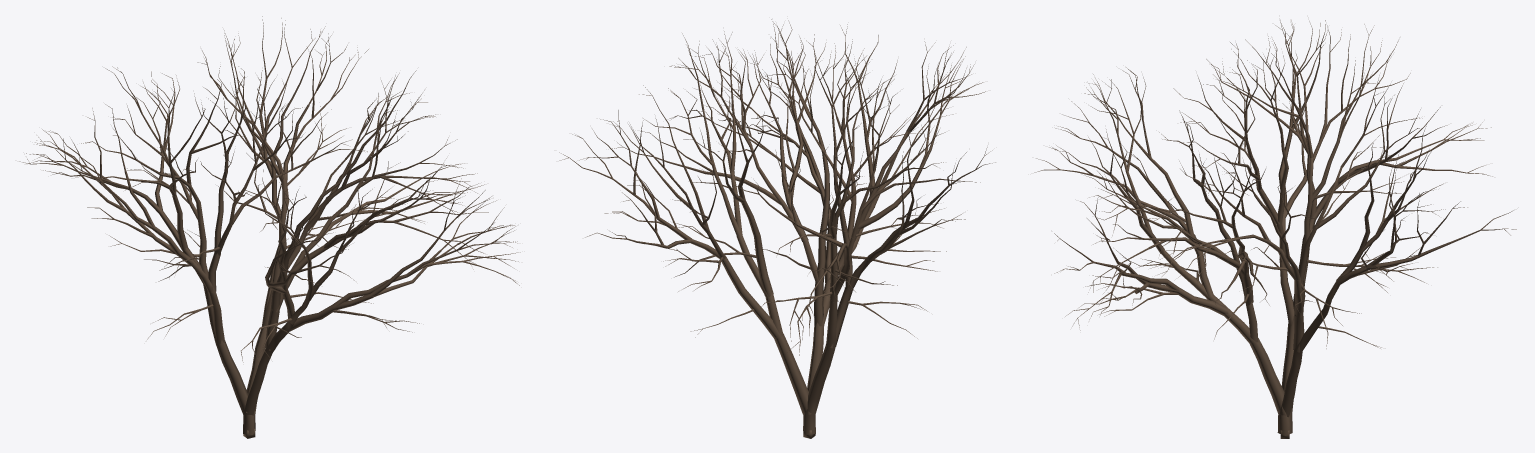
The model's file is World_Tree_Placeholder.fbx.
The picture shows the model from 3 angles, left to right: view 1: azimuth 30°, elevation 25°; view 2: azimuth 150°, elevation 25°; view 3: azimuth 270°, elevation 25°; orthographic projection.
Parts seen in each view (by area): view 1: tree; view 2: tree; view 3: tree.
Part boxes in pixels (box(x1,y1,x2,y2)): tree: box(19, 16, 520, 434); tree: box(559, 19, 995, 434); tree: box(1034, 20, 1516, 435).
Bounding box in the file's own units: 10304 × 9357 × 10940.
